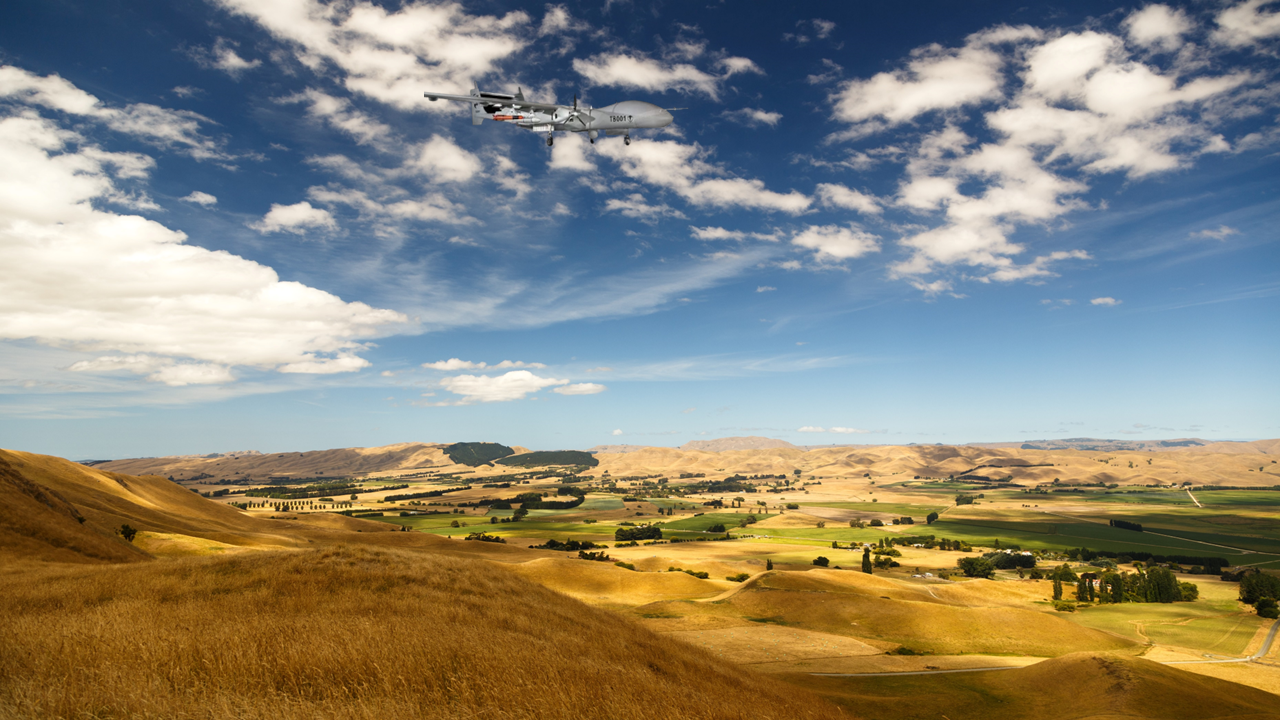military drone: (423, 80, 673, 146)
